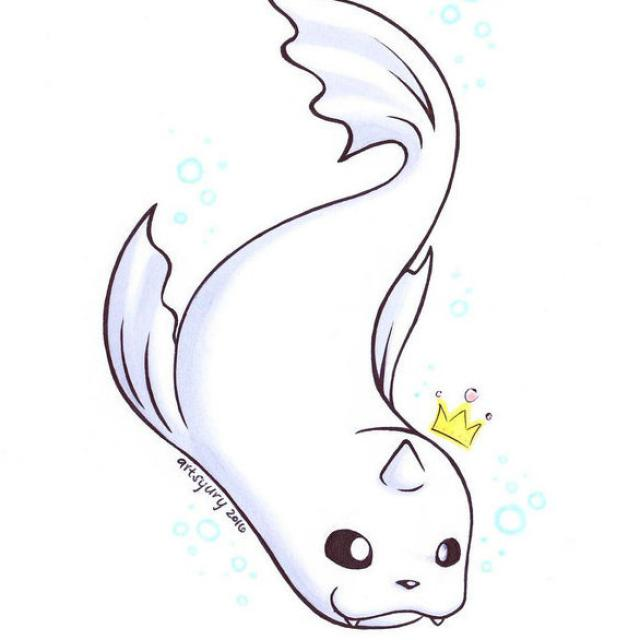Dewgong: (190, 0, 518, 640)
